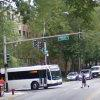Bus: (2, 63, 67, 93)
